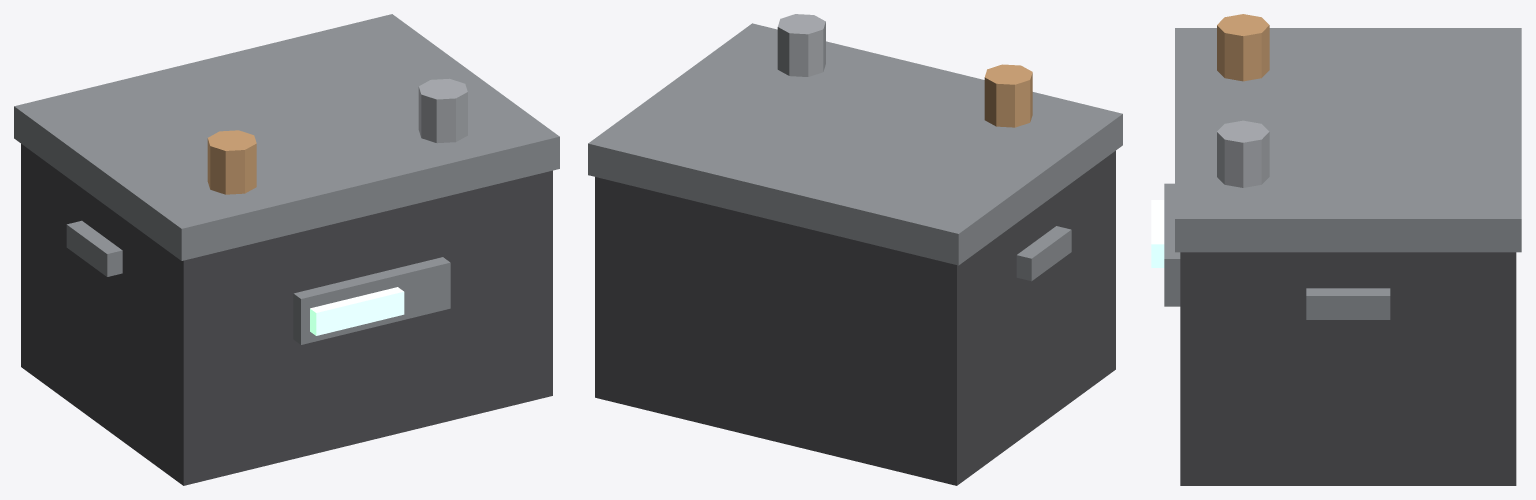
The model's file is battery.glb.
3 renders of one model, left to right at view 1: azimuth 30°, elevation 25°; view 2: azimuth 150°, elevation 25°; view 3: azimuth 270°, elevation 25°, orthographic. The views are drawn at different scales.
Parts seen in each view (by area): view 1: battery; view 2: battery; view 3: battery.
Boxes of the visible parts, left/top/right/bottom form: battery: left=14, top=14, right=559, bottom=485; battery: left=588, top=14, right=1122, bottom=485; battery: left=1151, top=14, right=1521, bottom=485.
Bounding box in the file's own units: 0.91 × 0.66 × 0.705.
